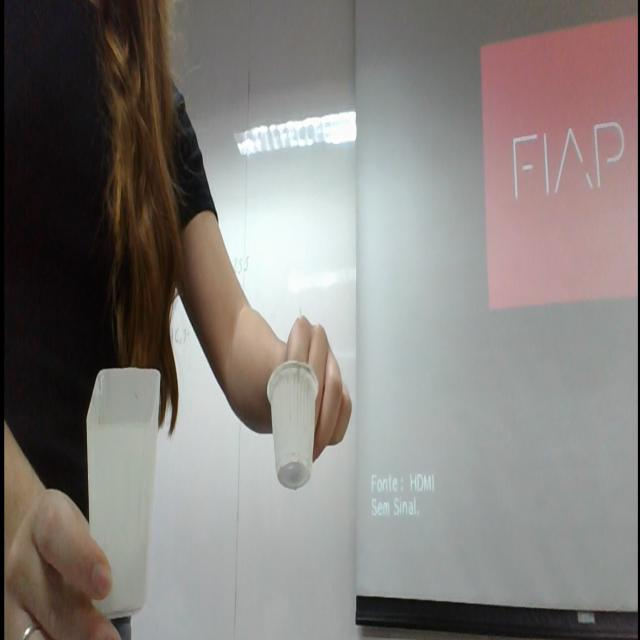erva_daninha: (86, 367, 161, 622)
planta: (267, 360, 319, 492)
